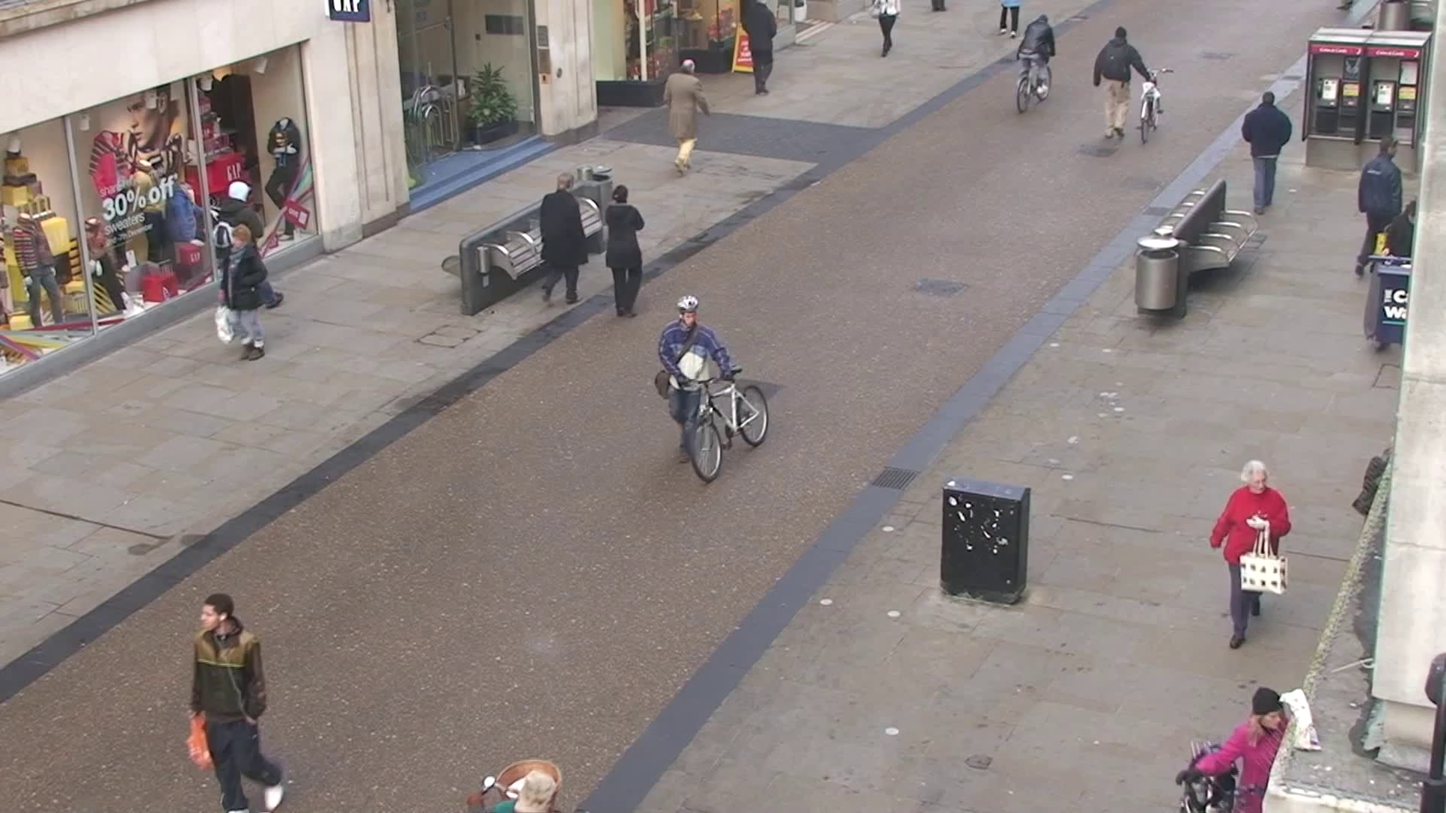person: (190, 592, 291, 811), (1209, 460, 1292, 651), (1182, 684, 1292, 812), (657, 296, 738, 436), (217, 221, 279, 352), (536, 172, 594, 307), (1355, 138, 1406, 273), (1242, 88, 1292, 214), (1094, 26, 1149, 140), (602, 183, 647, 320), (667, 57, 711, 175), (471, 760, 563, 812), (1016, 13, 1057, 99), (743, 0, 779, 96)
